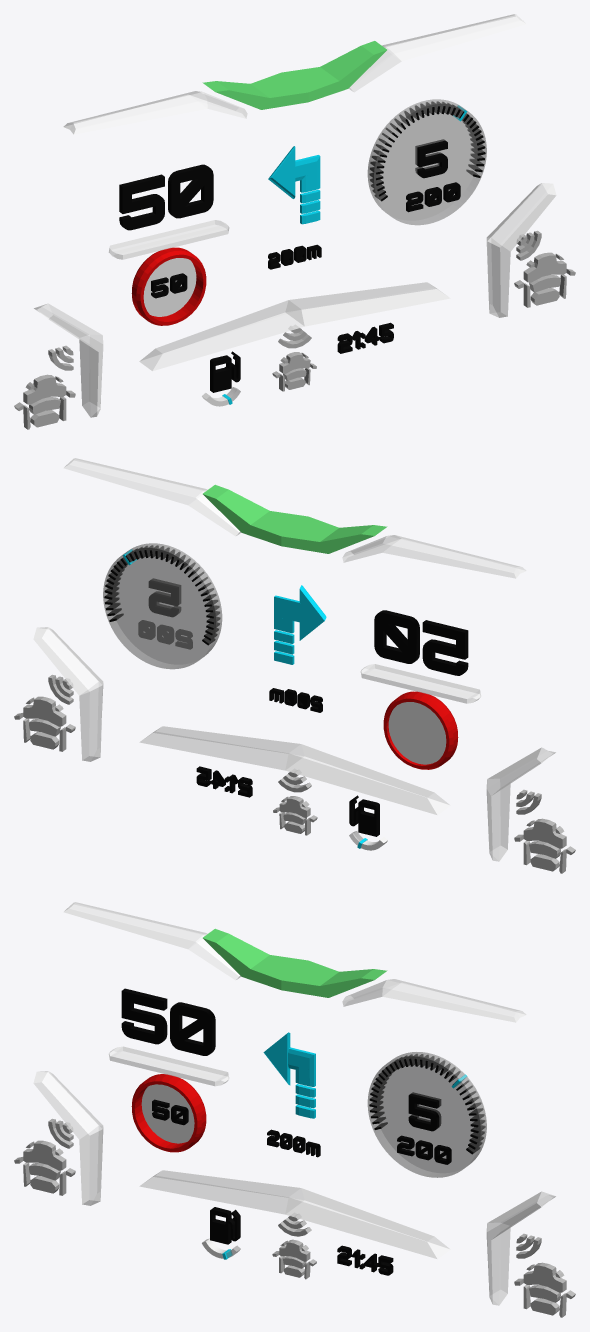
The model's file is ComplexUI.gltf.
The picture shows the model from 3 angles, top to bottom: view 1: azimuth 30°, elevation 25°; view 2: azimuth 150°, elevation 25°; view 3: azimuth 330°, elevation 25°; orthographic projection.
Parts seen in each view (by area): view 1: Cylinder_002_1, BottomBar_001_1, SideBars_001_1, TopSideBars_001_1, TopBar_001_1, SpeedText, Layer_001_001_1, Layer_001_003, Cube_001, SpeedLimit_001_1, MiddleSeperator_001_1, Circle.001 (+9 smaller); view 2: Cylinder_002_1, BottomBar_001_1, SideBars_001_1, TopSideBars_001_1, TopBar_001_1, SpeedText, Circle.001, Layer_001_001_1, Layer_001_003, Cube_001, MiddleSeperator_001_1, SpeedLimit_001_1 (+9 smaller); view 3: Cylinder_002_1, BottomBar_001_1, SideBars_001_1, TopSideBars_001_1, TopBar_001_1, SpeedText, Layer_001_003, Layer_001_001_1, Cube_001, SpeedLimit_001_1, MiddleSeperator_001_1, Circle.001 (+10 smaller).
Part boxes in pixels (x1,y1,x2,y2): Cylinder_002_1: (367,99,486,225); BottomBar_001_1: (139,282,450,371); SideBars_001_1: (34,183,556,417); TopSideBars_001_1: (63,14,526,134); TopBar_001_1: (202,41,386,109); SpeedText: (119,164,213,230); Layer_001_001_1: (514,230,575,307); Layer_001_003: (14,345,75,429); Cube_001: (369,101,485,201); SpeedLimit_001_1: (131,247,206,325); MiddleSeperator_001_1: (108,220,229,259); Circle.001: (143,258,196,316); Cylinder_002_1: (103,543,222,669); BottomBar_001_1: (139,726,450,815); SideBars_001_1: (33,627,555,861); TopSideBars_001_1: (63,458,526,578); TopBar_001_1: (203,484,387,553); SpeedText: (374,610,468,675); Circle.001: (388,702,446,764); Layer_001_001_1: (14,674,75,751); Layer_001_003: (514,789,575,873); Cube_001: (104,545,220,645); MiddleSeperator_001_1: (360,664,481,703); SpeedLimit_001_1: (383,691,458,769); Cylinder_002_1: (367,1052,486,1177); BottomBar_001_1: (139,1170,450,1259); SideBars_001_1: (33,1071,555,1305); TopSideBars_001_1: (63,902,526,1022); TopBar_001_1: (203,928,387,997); SpeedText: (121,988,215,1055); Layer_001_003: (14,1118,75,1195); Layer_001_001_1: (514,1233,575,1317); Cube_001: (369,1054,485,1154); SpeedLimit_001_1: (131,1074,206,1152); MiddleSeperator_001_1: (108,1046,229,1086); Circle.001: (141,1084,194,1143).
Bounding box in the file's own units: 0.3306 × 0.1814 × 0.0279.
